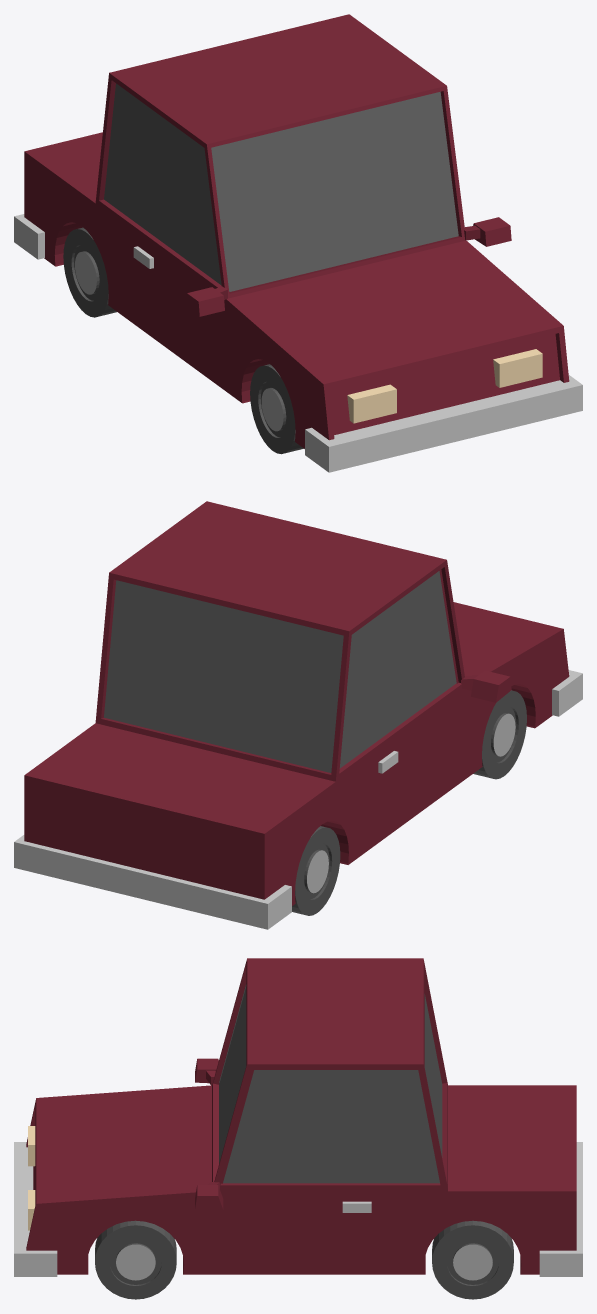
The model's file is Car.fbx.
3 views of the same model, one above another, from view 1: azimuth 30°, elevation 25°; view 2: azimuth 150°, elevation 25°; view 3: azimuth 270°, elevation 25° (orthographic). The views are drawn at different scales.
Visible parts, largest first — view 1: Car body, Front Bumber, Wheel, Headlights, Mirrors, Back Bumper; view 2: Car body, Back Bumper, Wheel, Mirrors, Front Bumber; view 3: Car body, Wheel, Front Bumber, Back Bumper, Mirrors, Headlights.
Boxes of the visible parts, left/top/right/bottom form: Car body: left=24, top=14, right=569, bottom=448; Front Bumber: left=305, top=375, right=582, bottom=472; Wheel: left=63, top=227, right=303, bottom=454; Headlights: left=347, top=349, right=542, bottom=423; Mirrors: left=184, top=217, right=511, bottom=316; Back Bumper: left=14, top=214, right=44, bottom=259; Car body: left=24, top=501, right=569, bottom=905; Back Bumper: left=14, top=835, right=291, bottom=929; Wheel: left=292, top=690, right=526, bottom=915; Mirrors: left=461, top=670, right=511, bottom=702; Front Bumber: left=552, top=670, right=582, bottom=716; Car body: left=26, top=958, right=576, bottom=1274; Wheel: left=95, top=1220, right=513, bottom=1299; Front Bumber: left=14, top=1142, right=57, bottom=1276; Back Bumper: left=539, top=1142, right=582, bottom=1276; Mirrors: left=195, top=1058, right=223, bottom=1209; Headlights: left=28, top=1126, right=35, bottom=1230.
Size of the model in its own units: 3.37 by 2.71 by 5.9.
